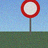sign: (21, 0, 40, 36)
